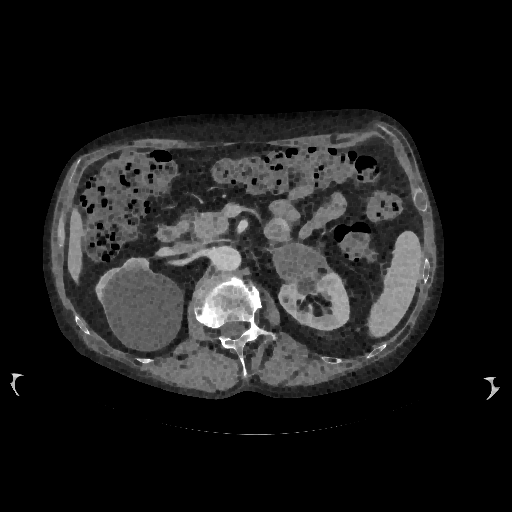Lesion: (267, 242, 332, 283)
